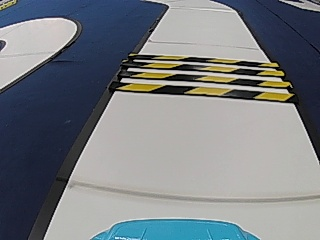bump: (112, 49, 298, 109)
